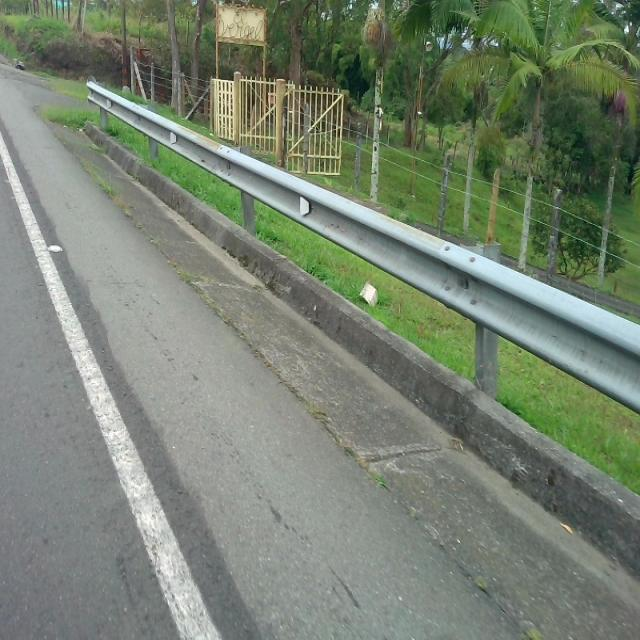DITCH: (1, 61, 638, 638), (2, 66, 638, 638), (1, 119, 638, 638)
